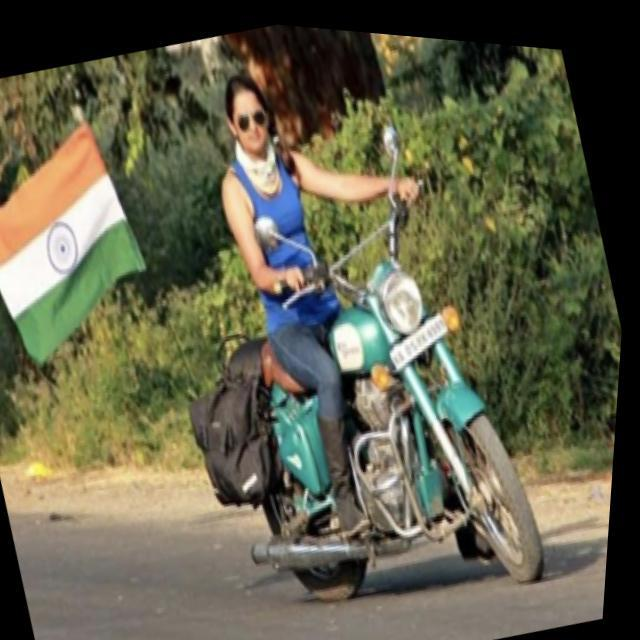Nonhelmet: (217, 61, 277, 166)
